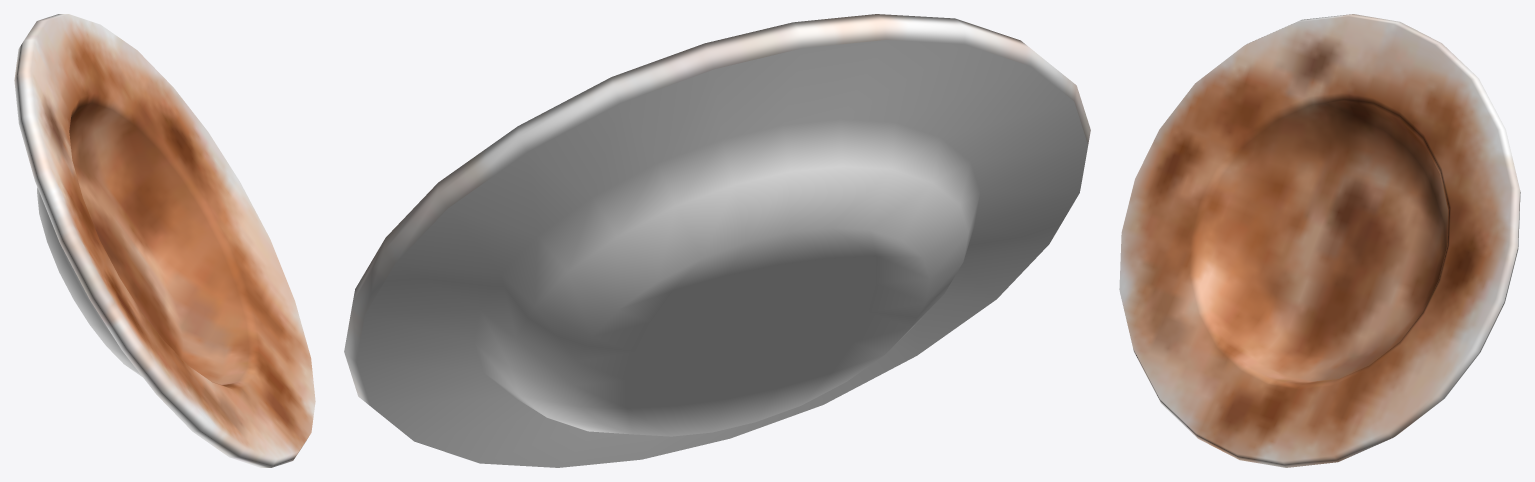
File: DirtyPlate.fbx
3 renders of one model, left to right at view 1: azimuth 30°, elevation 25°; view 2: azimuth 150°, elevation 25°; view 3: azimuth 270°, elevation 25°, orthographic. The views are drawn at different scales.
Parts seen in each view (by area): view 1: DirtyPlate; view 2: DirtyPlate; view 3: DirtyPlate.
Part boxes in pixels (bbox=[...]): DirtyPlate: bbox=[14, 14, 315, 467]; DirtyPlate: bbox=[344, 14, 1090, 467]; DirtyPlate: bbox=[1119, 14, 1520, 467].
Bounding box in the file's own units: 0.4255 × 0.4667 × 0.4796.
Materials: 1 (1 with a texture image).
